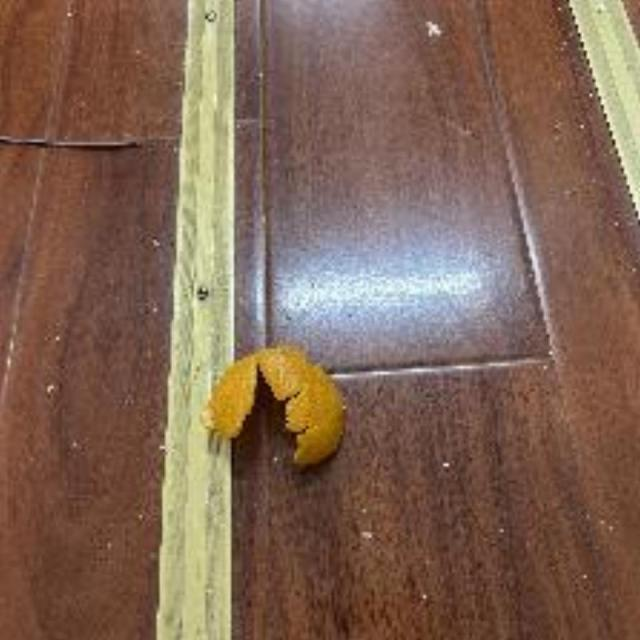orange-peel: (199, 339, 349, 470)
